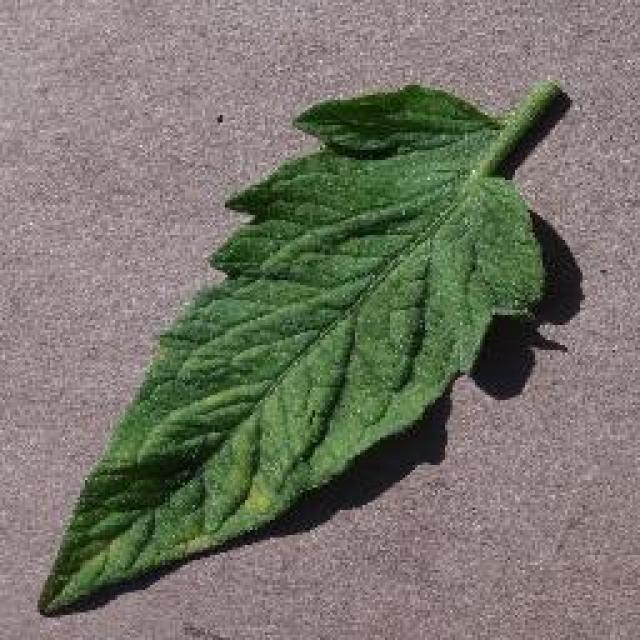leaf mold: (36, 76, 574, 615)
